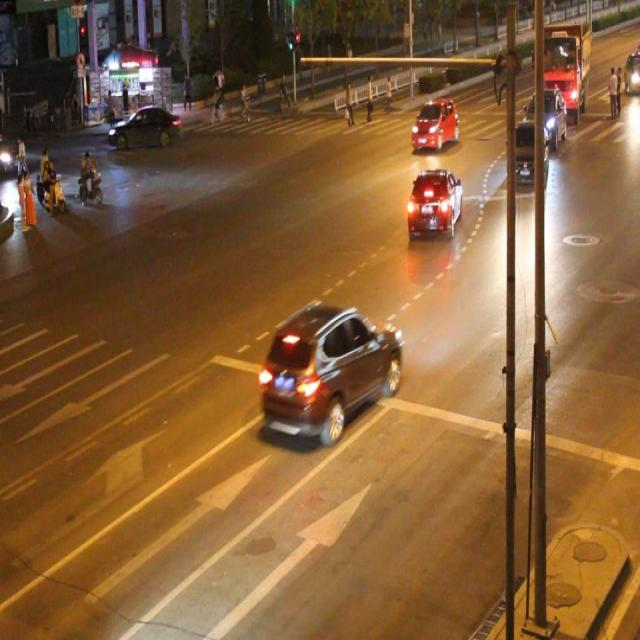car: (259, 298, 399, 439), (405, 163, 462, 238), (412, 98, 459, 152), (508, 119, 546, 184)
